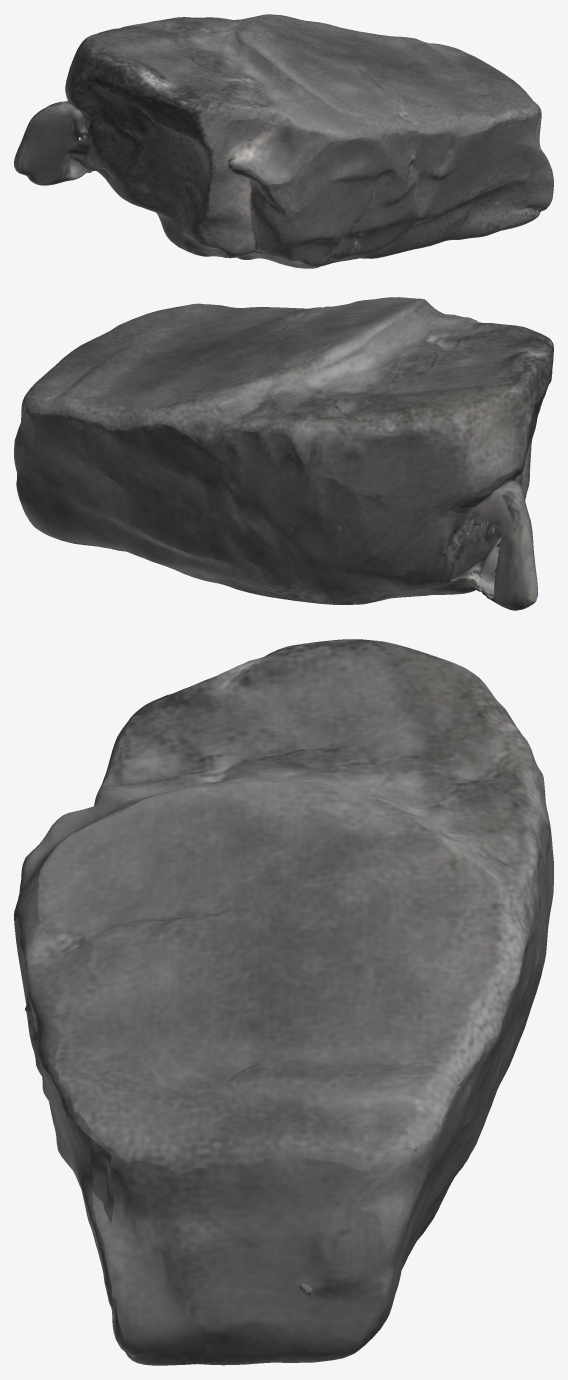
3 renders of one model, top to bottom at view 1: azimuth 30°, elevation 25°; view 2: azimuth 150°, elevation 25°; view 3: azimuth 270°, elevation 25°, orthographic. The views are drawn at different scales.
Parts seen in each view (by area): view 1: world; view 2: world; view 3: world.
Part boxes in pixels (left/top/right/bottom): world: left=14, top=14, right=553, bottom=268; world: left=14, top=297, right=553, bottom=610; world: left=14, top=639, right=553, bottom=1365.
Size of the model in its own units: 2.5 by 1.19 by 1.46.
1 material, 1 textured.
